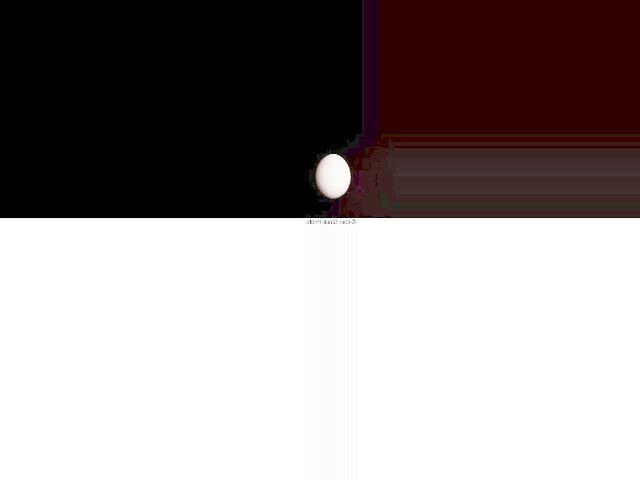egg: (315, 154, 349, 199)
